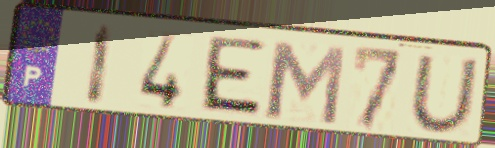4: (135, 30, 189, 113)
7: (350, 43, 405, 133)
E: (195, 33, 269, 121)
I: (83, 22, 117, 109)
M: (263, 38, 349, 128)
U: (407, 53, 482, 136)
